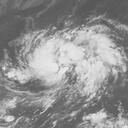cyclone: (8, 18, 122, 100)
